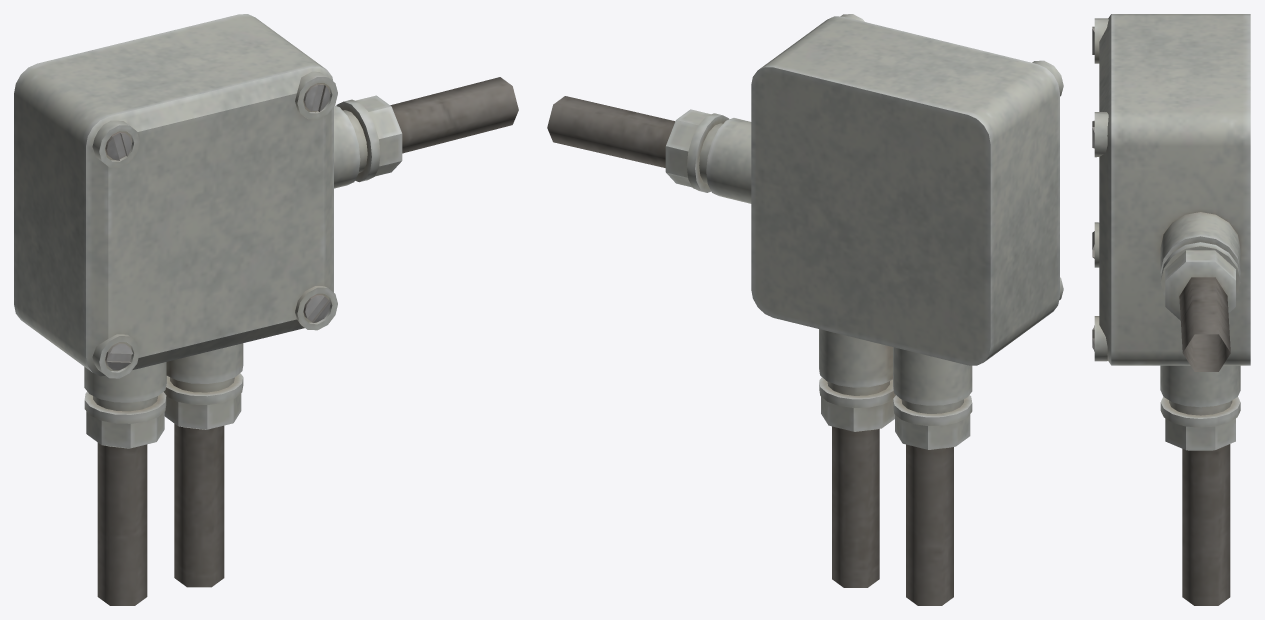
File: cable_box_double_to_single_2.glb
3 renders of one model, left to right at view 1: azimuth 30°, elevation 25°; view 2: azimuth 150°, elevation 25°; view 3: azimuth 270°, elevation 25°, orthographic. The views are drawn at different scales.
Visible parts, largest first — view 1: cable_box_double_to_single_2.001; view 2: cable_box_double_to_single_2.001; view 3: cable_box_double_to_single_2.001.
Boxes of the visible parts, box(x1,y1,x2,y2) form: cable_box_double_to_single_2.001: box(14, 14, 518, 605); cable_box_double_to_single_2.001: box(547, 14, 1063, 605); cable_box_double_to_single_2.001: box(1092, 14, 1250, 605).
Bounding box in the file's own units: 0.1223 × 0.1323 × 0.0369.
1 material, 1 textured.
